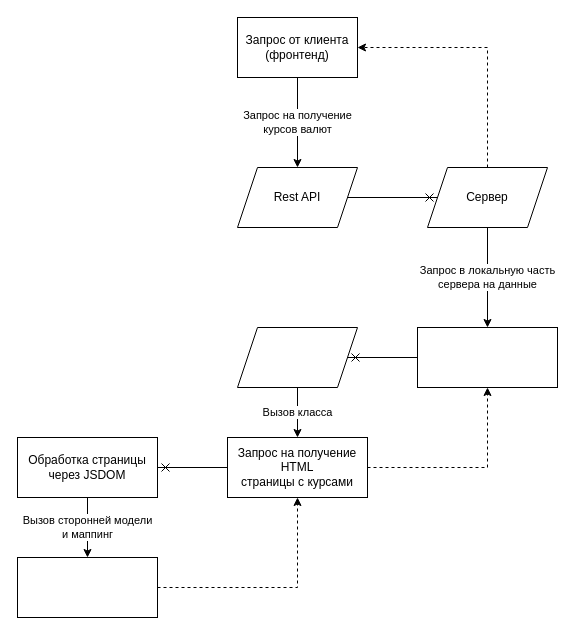
Image size: 575x635. Some labels were removed from this diagram. The shapes that lost their labels are listed below. From the top down, each one's centre as x and y in pixels, then its label:
[297,357]: CR-API
[487,357]: Запрос к подсерверу парсеру данных ЦБ РФ
[87,587]: Парсинг "сырых" данных в модель данных
